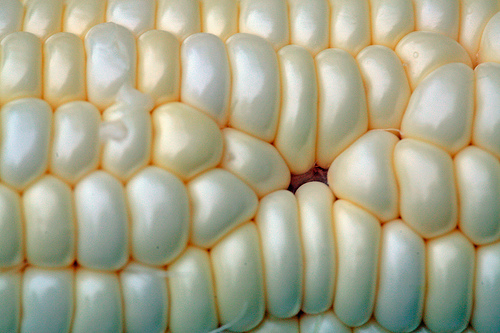corn: (0, 1, 499, 331)
